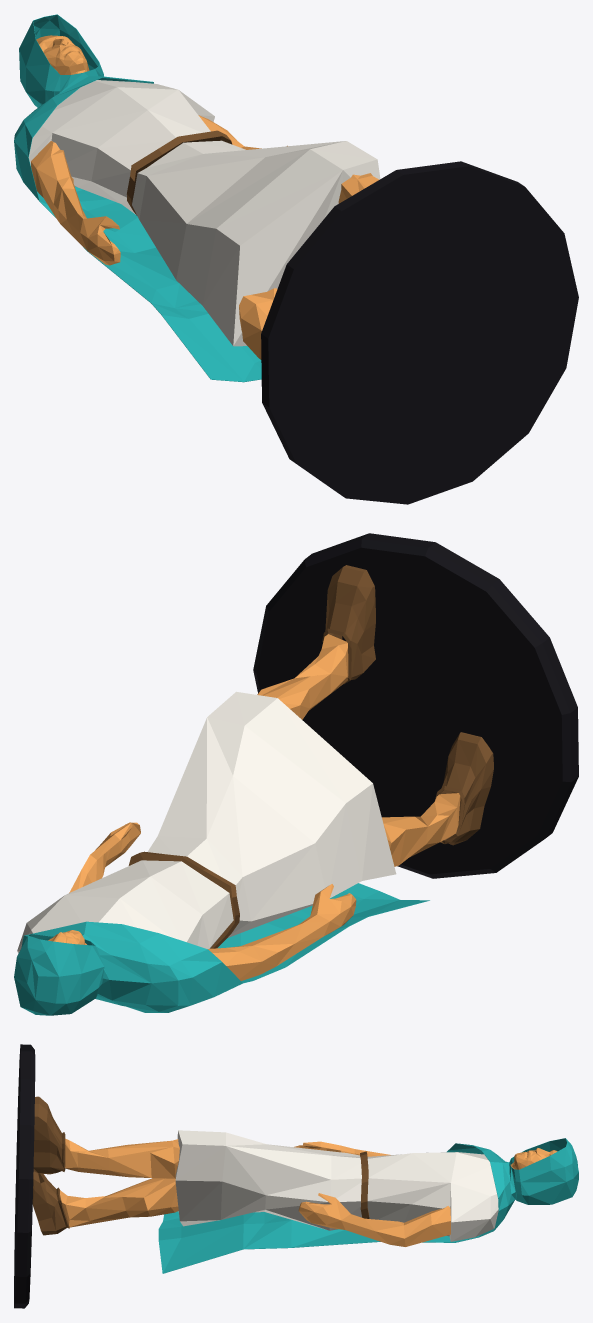
File: Muntaner.FBX
3 views of the same model, one above another, from view 1: azimuth 30°, elevation 25°; view 2: azimuth 150°, elevation 25°; view 3: azimuth 270°, elevation 25° (orthographic). The views are drawn at different scales.
Visible parts, largest first — view 1: Plane002; view 2: Plane002; view 3: Plane002.
Boxes of the visible parts, left/top/right/bottom form: Plane002: left=14, top=14, right=578, bottom=504; Plane002: left=14, top=533, right=578, bottom=1015; Plane002: left=14, top=1044, right=578, bottom=1308.
Size of the model in its own units: 9.78 by 9.84 by 21.04.
